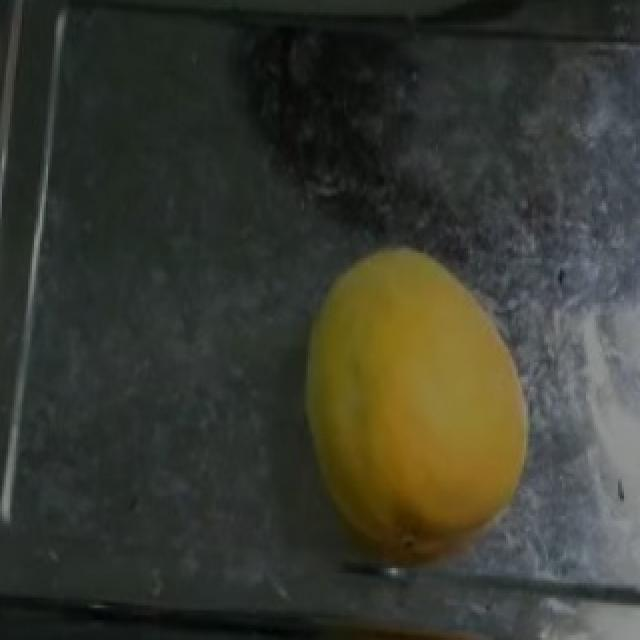fruit: (276, 214, 576, 576)
